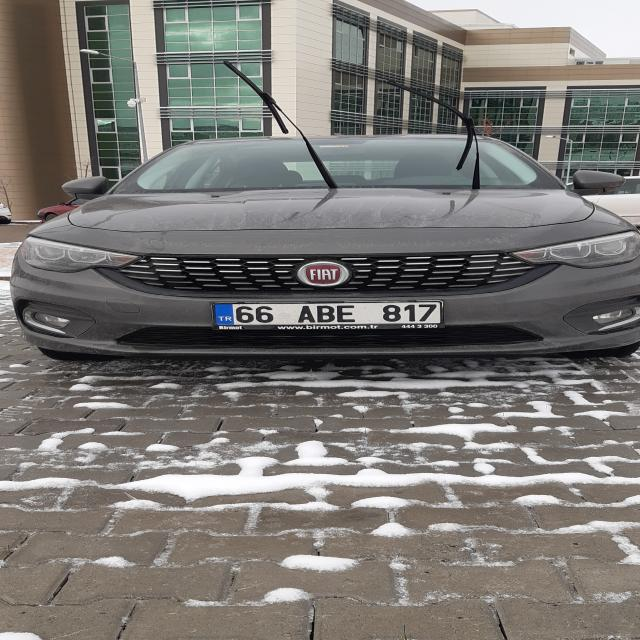license_plate: (213, 302, 444, 326)
